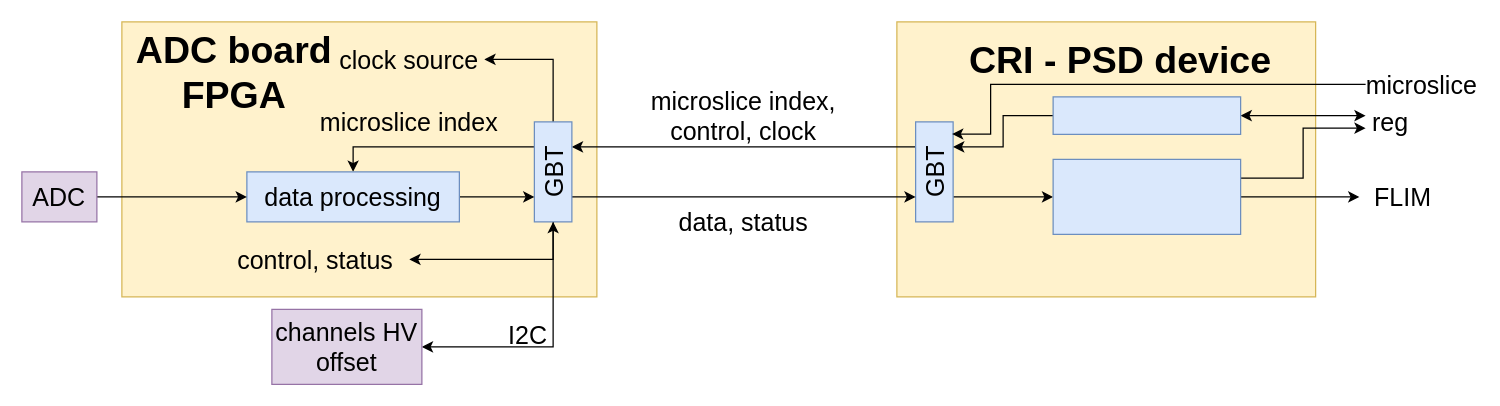
Image size: 1500x406. Some labels were removed from this diagram. The centre of each missing label's shape, as x and y in pixels:
"control" belongs at pixel 1146 115.
"GBT data processing" belongs at pixel 1146 196.
